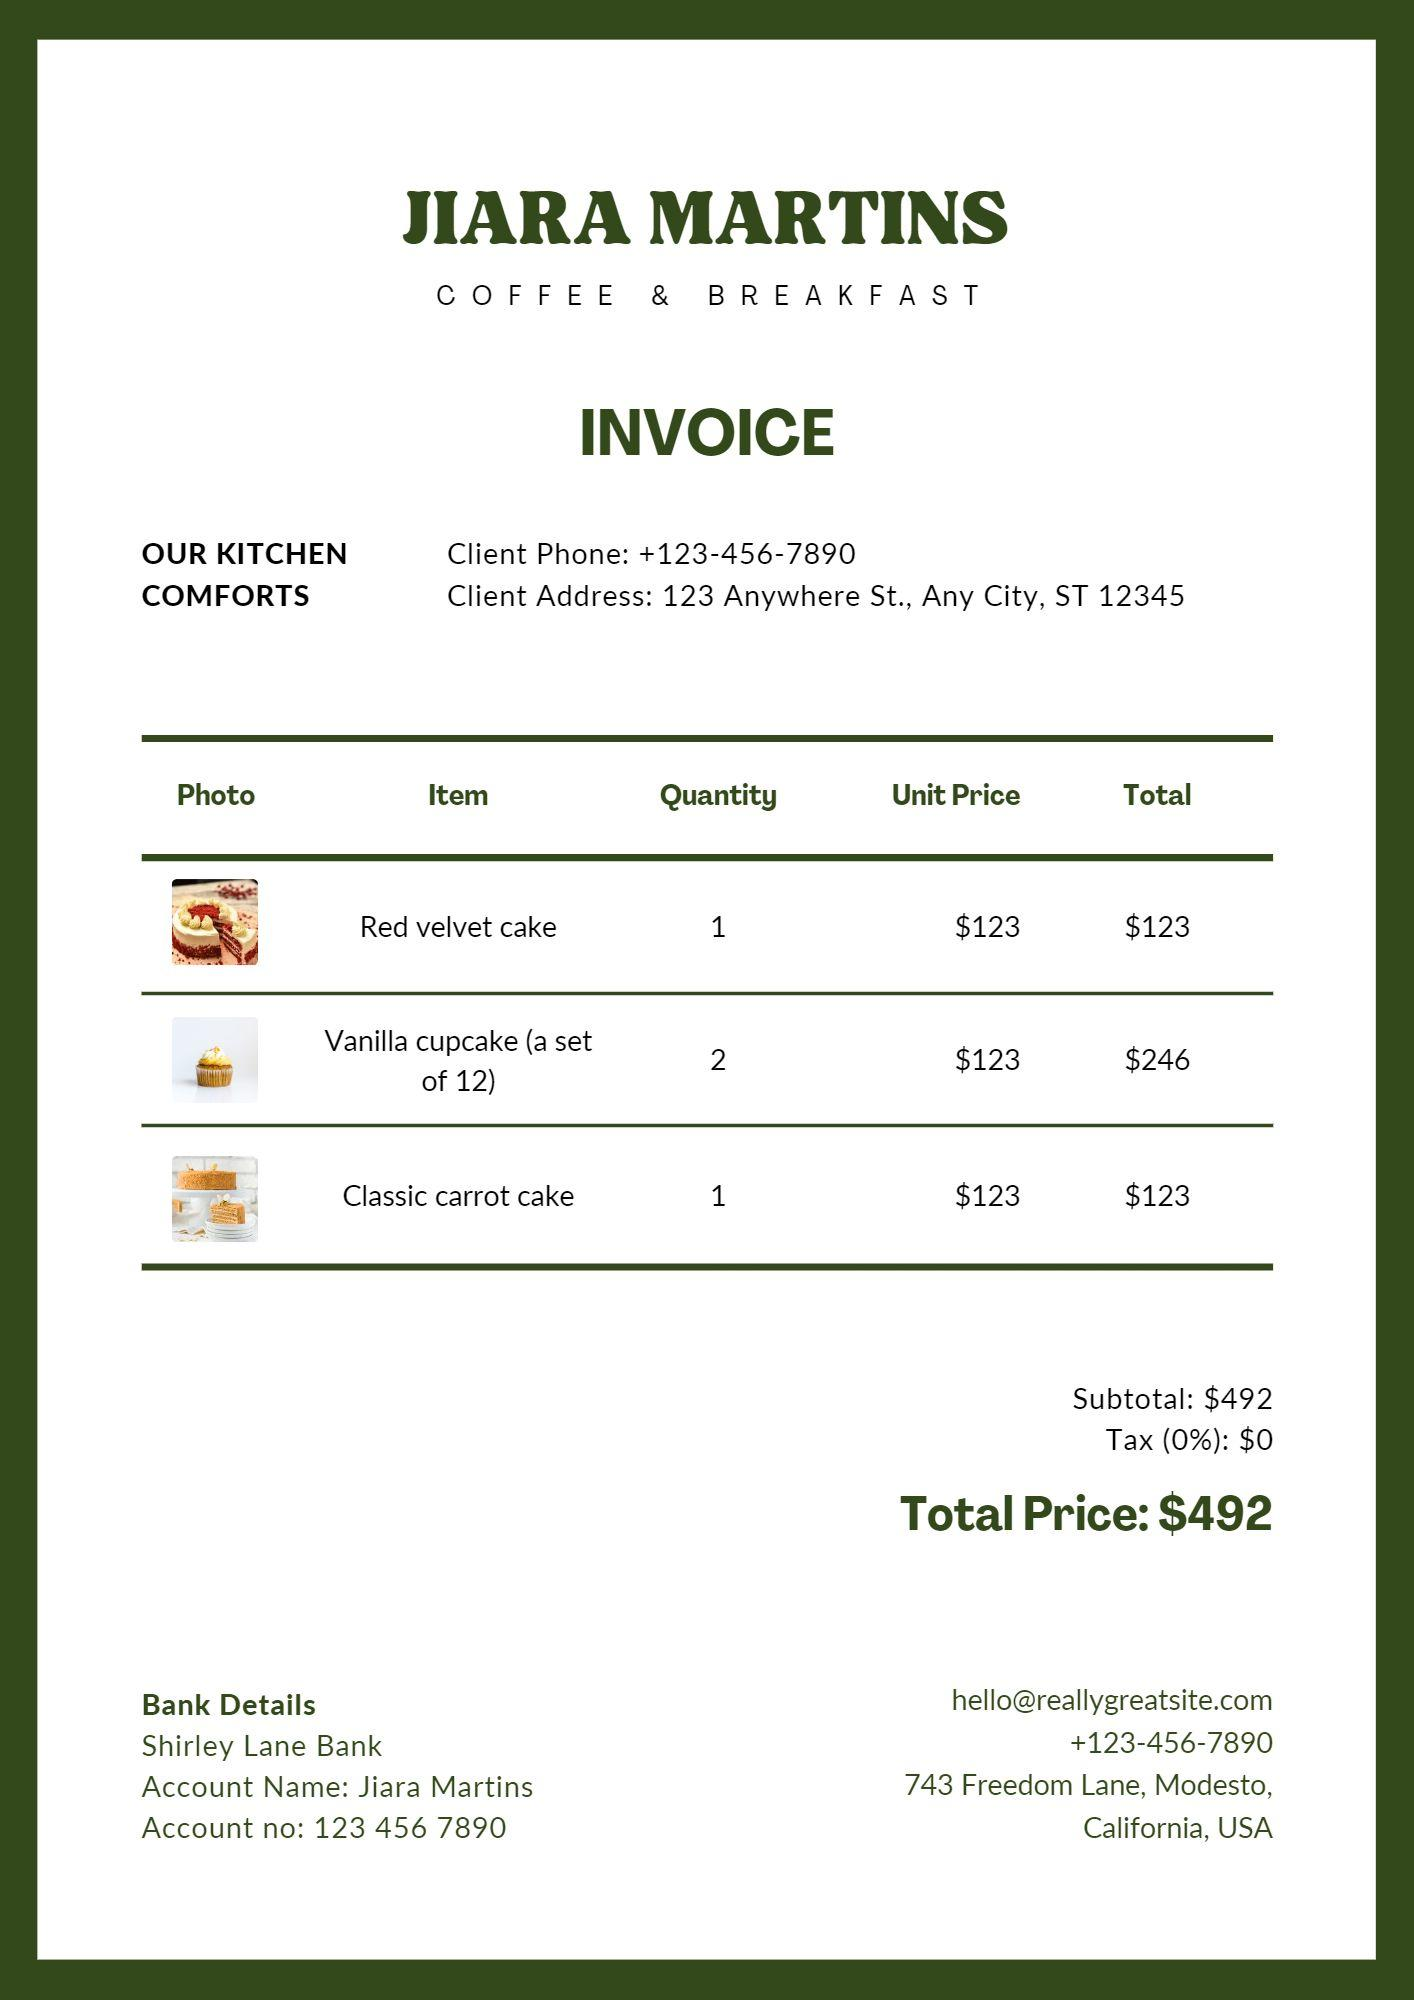ROI: (139, 725, 1275, 1282)
